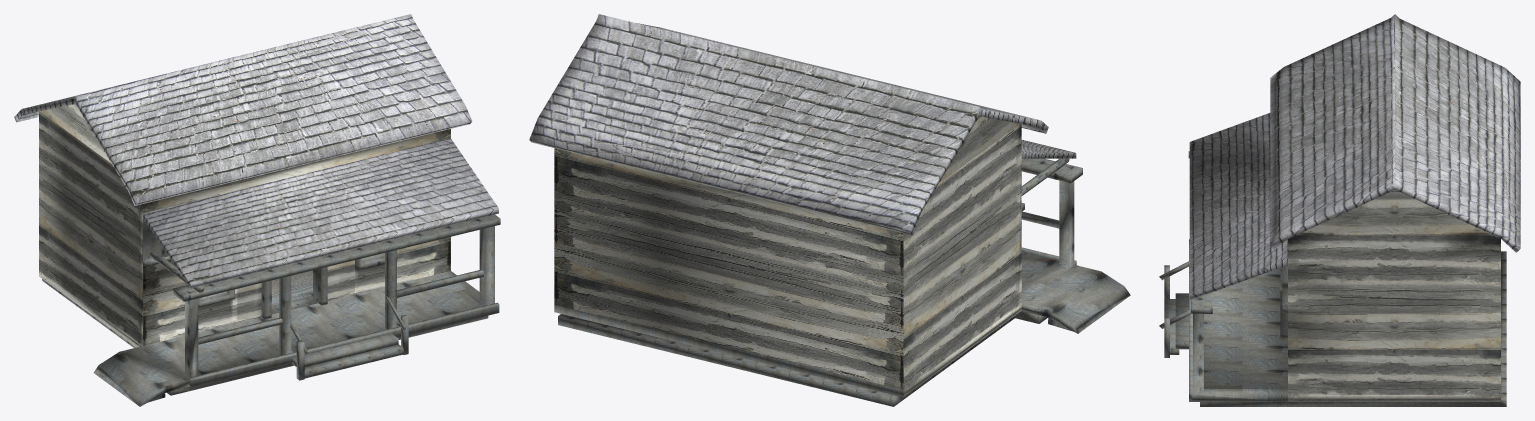
Rendered from log_cabbin.fbx.
3 renders of one model, left to right at view 1: azimuth 30°, elevation 25°; view 2: azimuth 150°, elevation 25°; view 3: azimuth 270°, elevation 25°, orthographic. The views are drawn at different scales.
Parts seen in each view (by area): view 1: U3DMesh; view 2: U3DMesh; view 3: U3DMesh.
Part boxes in pixels (x1,y1,x2,y2): U3DMesh: (14, 14, 500, 406); U3DMesh: (529, 14, 1130, 406); U3DMesh: (1159, 14, 1520, 406).
Size of the model in its own units: 16.97 by 10.14 by 14.03.
5 materials, 4 textured.
